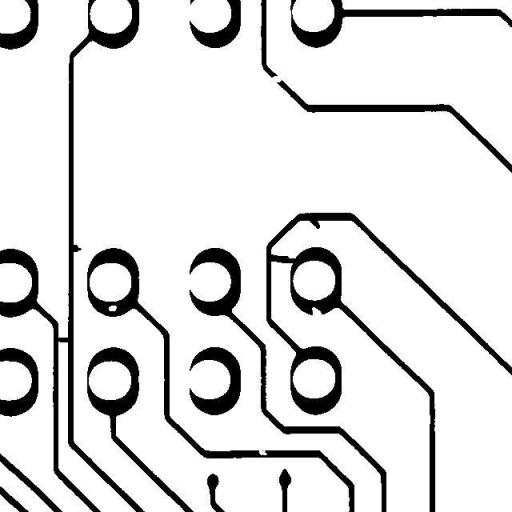mousebite: (304, 299, 329, 324), (252, 441, 274, 462)
open: (264, 68, 290, 90)
pin-hole: (101, 298, 124, 318)
short: (259, 246, 305, 270), (49, 330, 79, 350)
spur: (302, 210, 327, 236), (62, 237, 89, 259)
